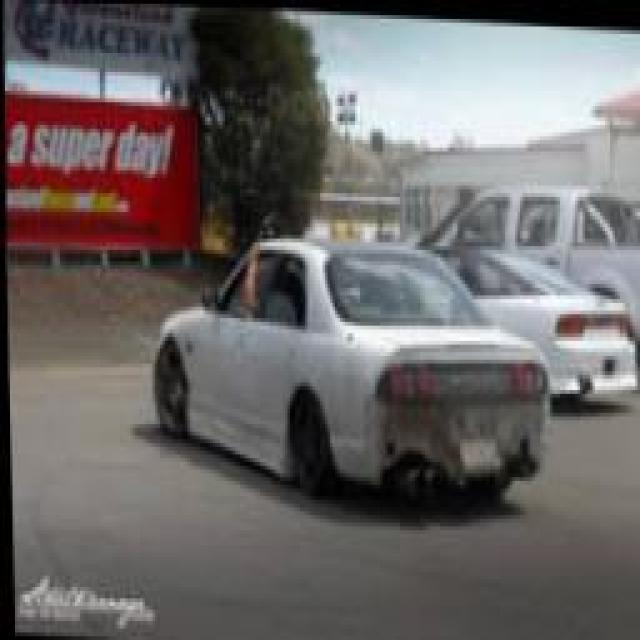replaceable: (371, 394, 540, 524)
